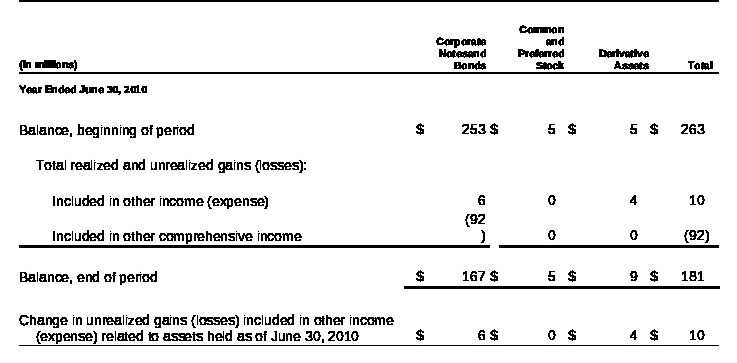table: (0, 0, 737, 363)
